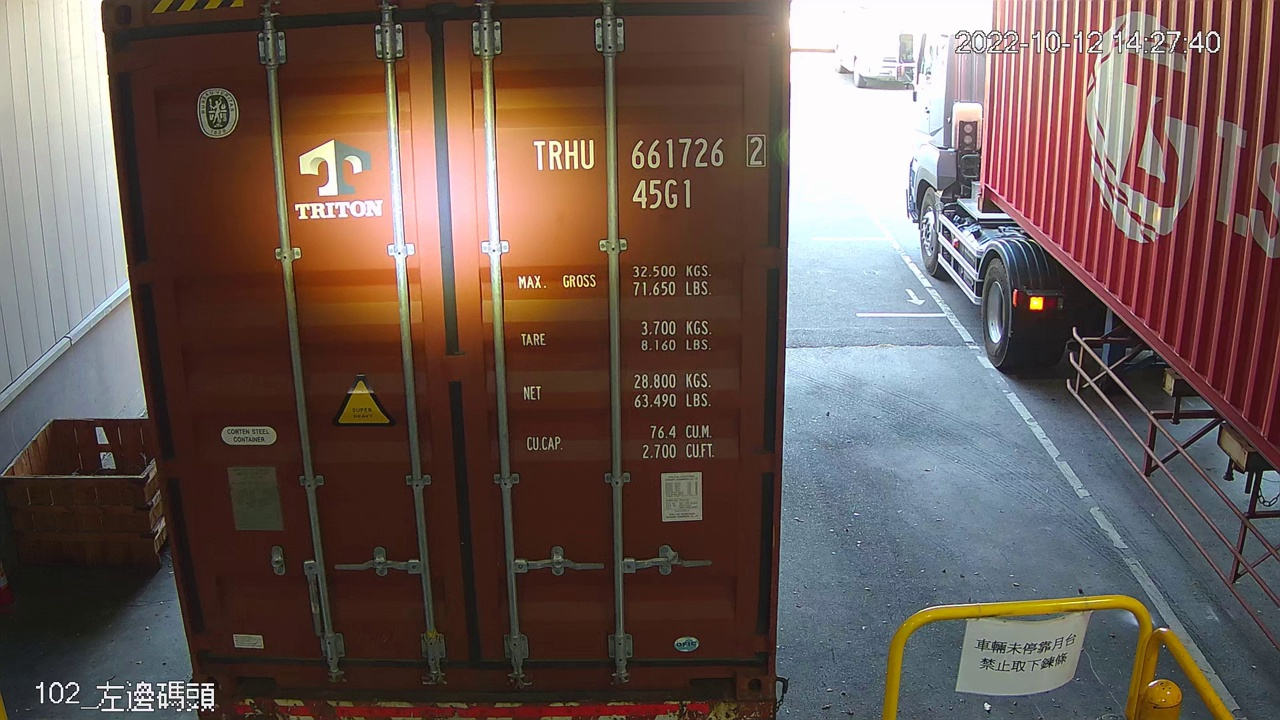container: (522, 126, 776, 217)
